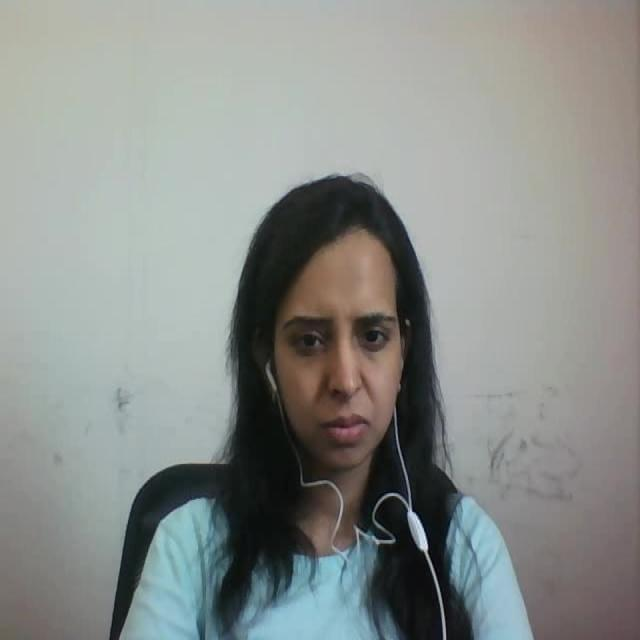Engaged: (220, 147, 445, 470)
